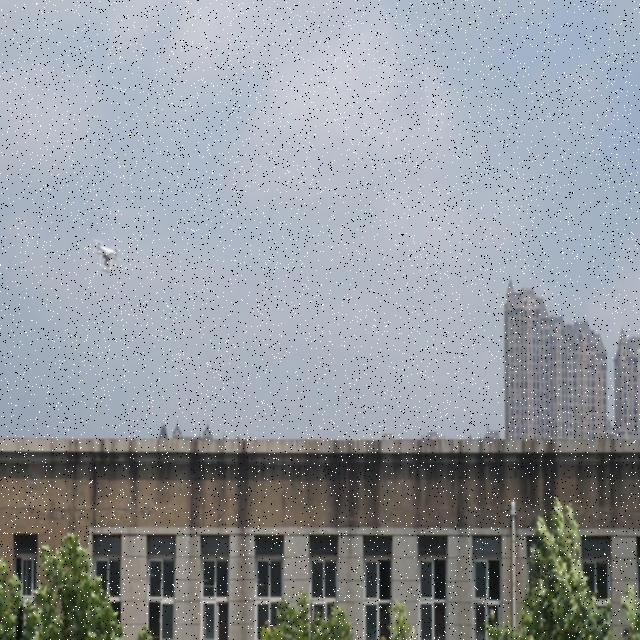UAV: (92, 239, 121, 273)
